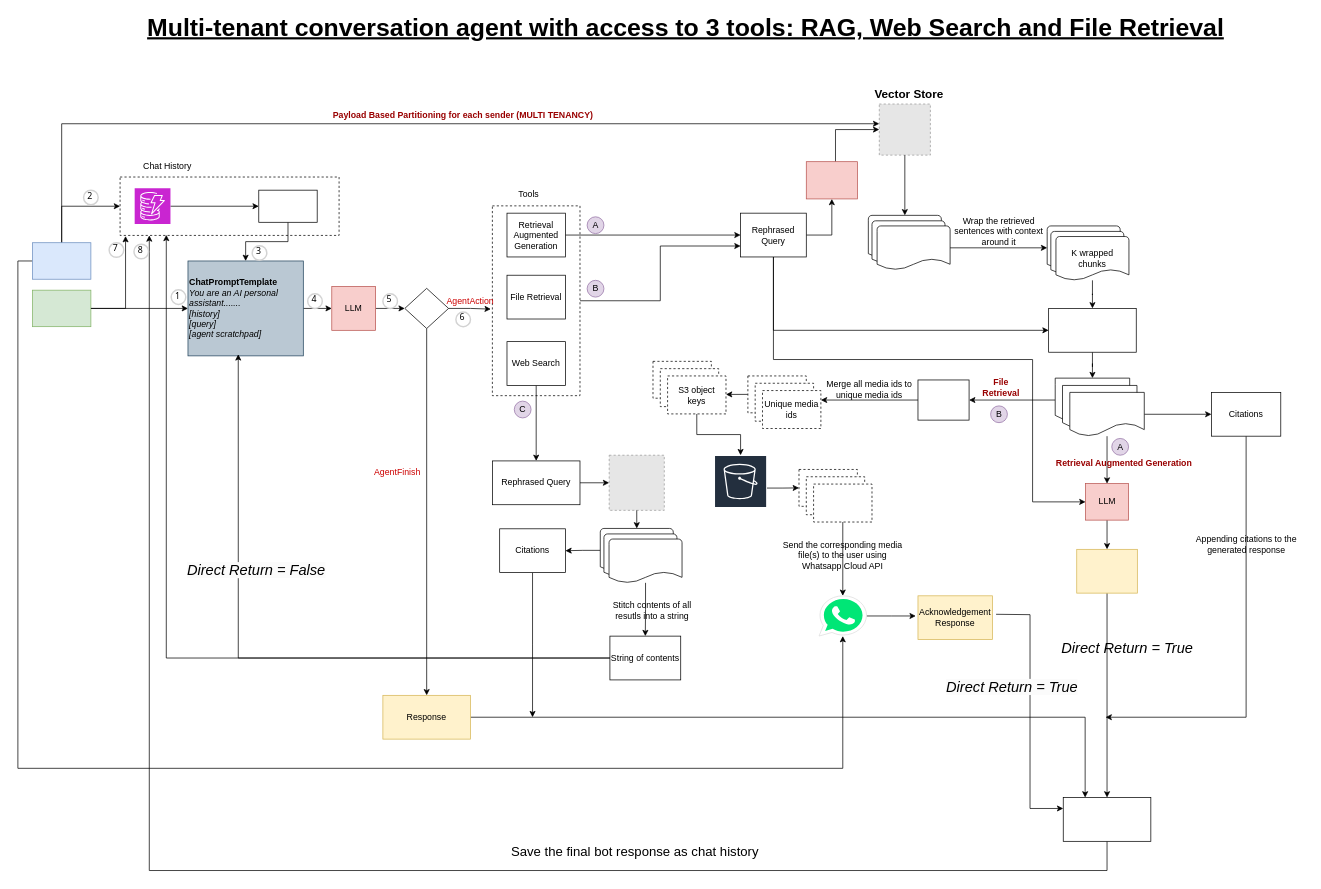
Some shapes in this 1321 by 889 pixel diagram are drawn without their labels. Grey dashed boxes stand in for pictures. The shapes that lost their labels are listed below. From the top down, each one's centre as x and y in pixels, then its label:
At (x=831, y=180): "Embedding model".
At (x=287, y=205): "Last Few Interactions".
At (x=61, y=260): "Sender's Whatsapp Id".
At (x=913, y=247): "Top K retrieved chunks".
At (x=61, y=308): "Query".
At (x=1092, y=330): "Reranker Model".
At (x=943, y=399): "Media ids".
At (x=1106, y=414): "N (< K) reranked chunks".
At (x=740, y=487): "Amazon S3".
At (x=842, y=502): "Public URL of the S3 object".
At (x=645, y=560): "K Search Results".
At (x=1106, y=571): "Query Engine Response".
At (x=1107, y=819): "Final Bot Response".
